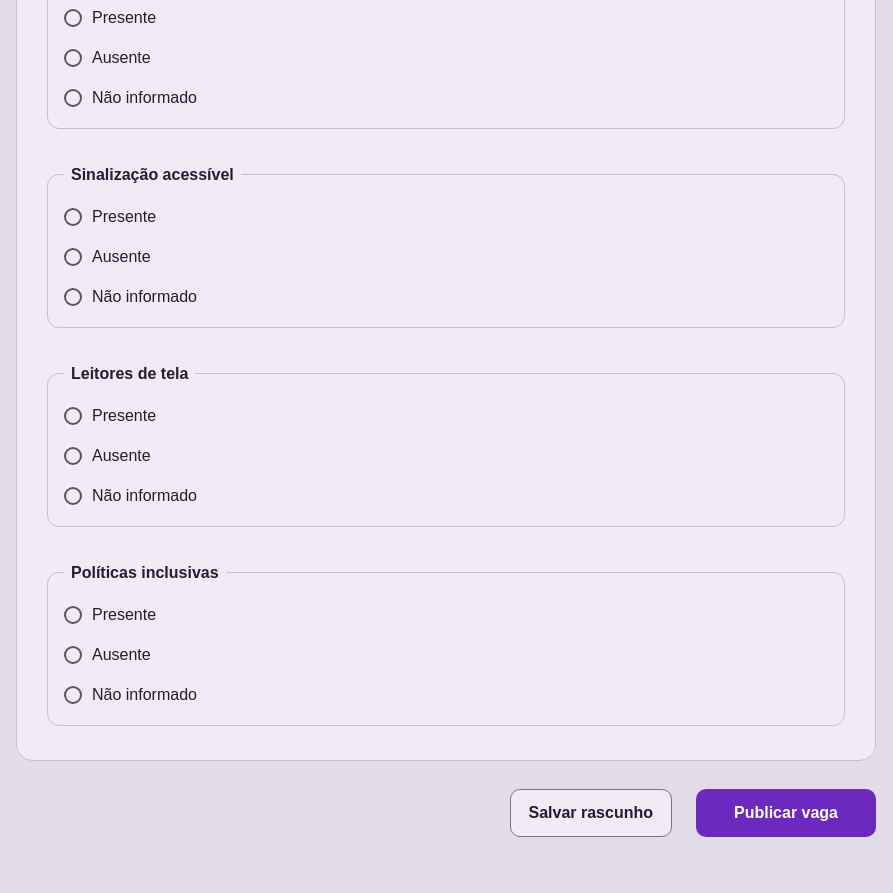
job editor › shows server issues next to their fields when publishing is blocked
(page scrolled)
Step 1. Click the button "Publicar vaga" → [786, 813], box x1=696 y1=789 x2=876 y2=837
(page scrolled)
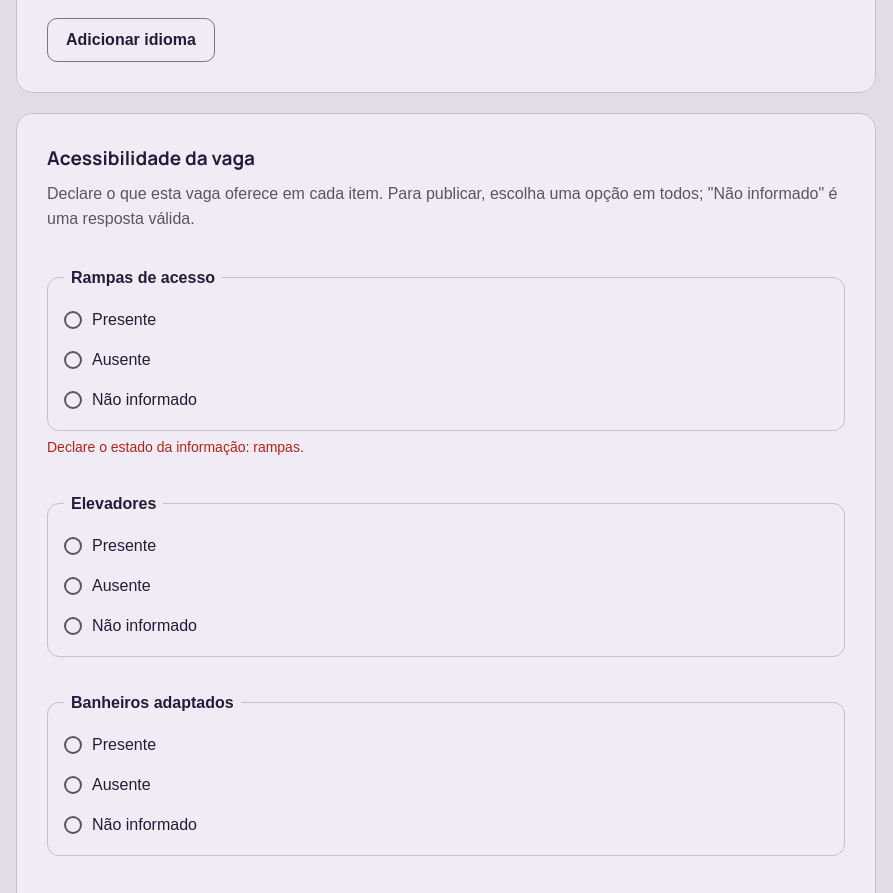
Result: the text "Declare o estado da informação: rampas." is shown at x1=47 y1=439 x2=304 y2=455
